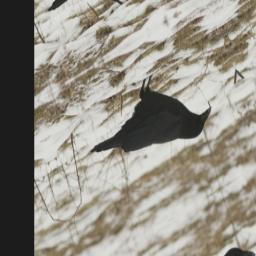Crow: (80, 45, 221, 199)
